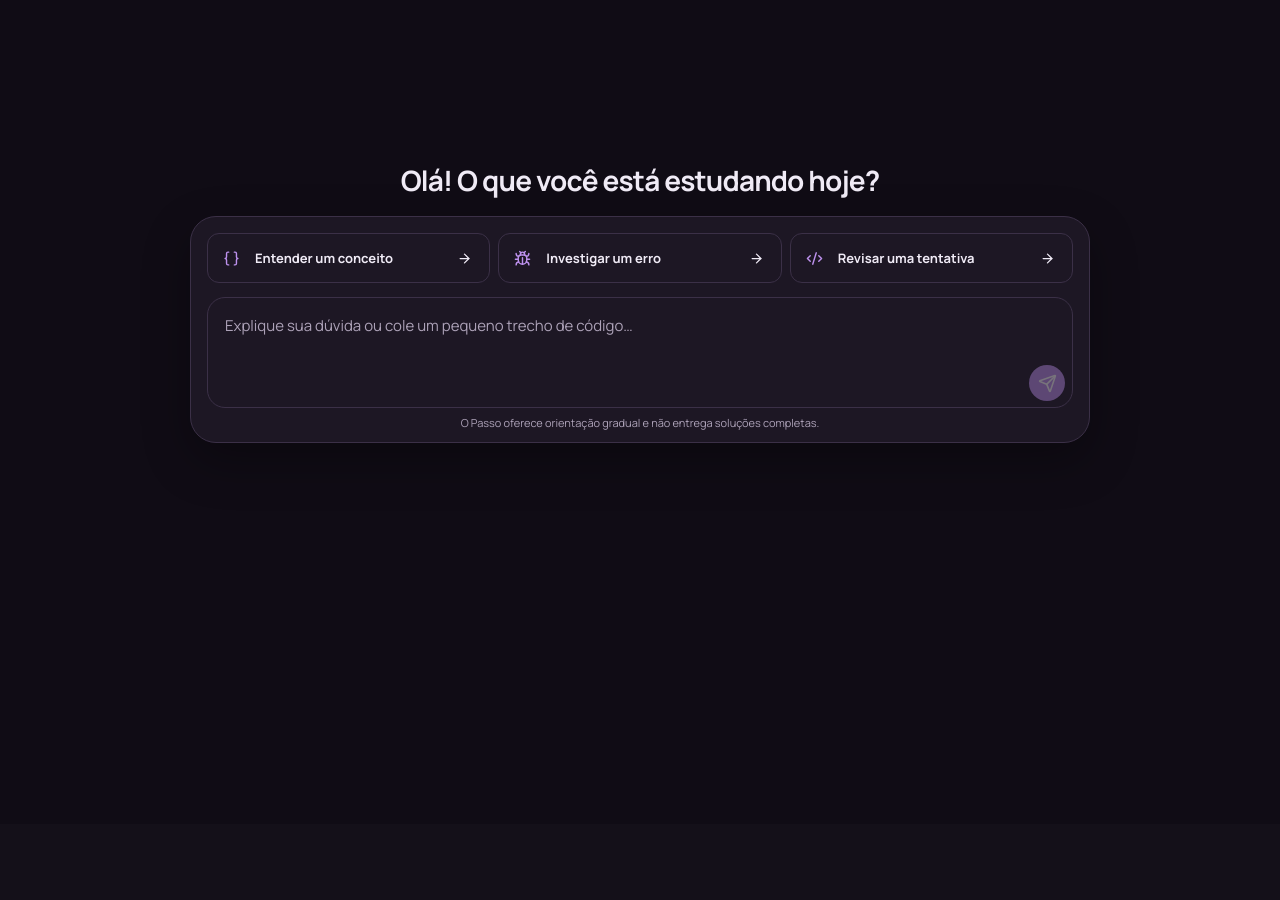
it: ChatPage progressive layout › keeps the draft after the first request fails without retrying
The width and height of the screenshot is (1280, 900).
In the text box named "Sua mensagem para o tutor": (640, 327) [208,298,1072,356], type "Minha dúvida"
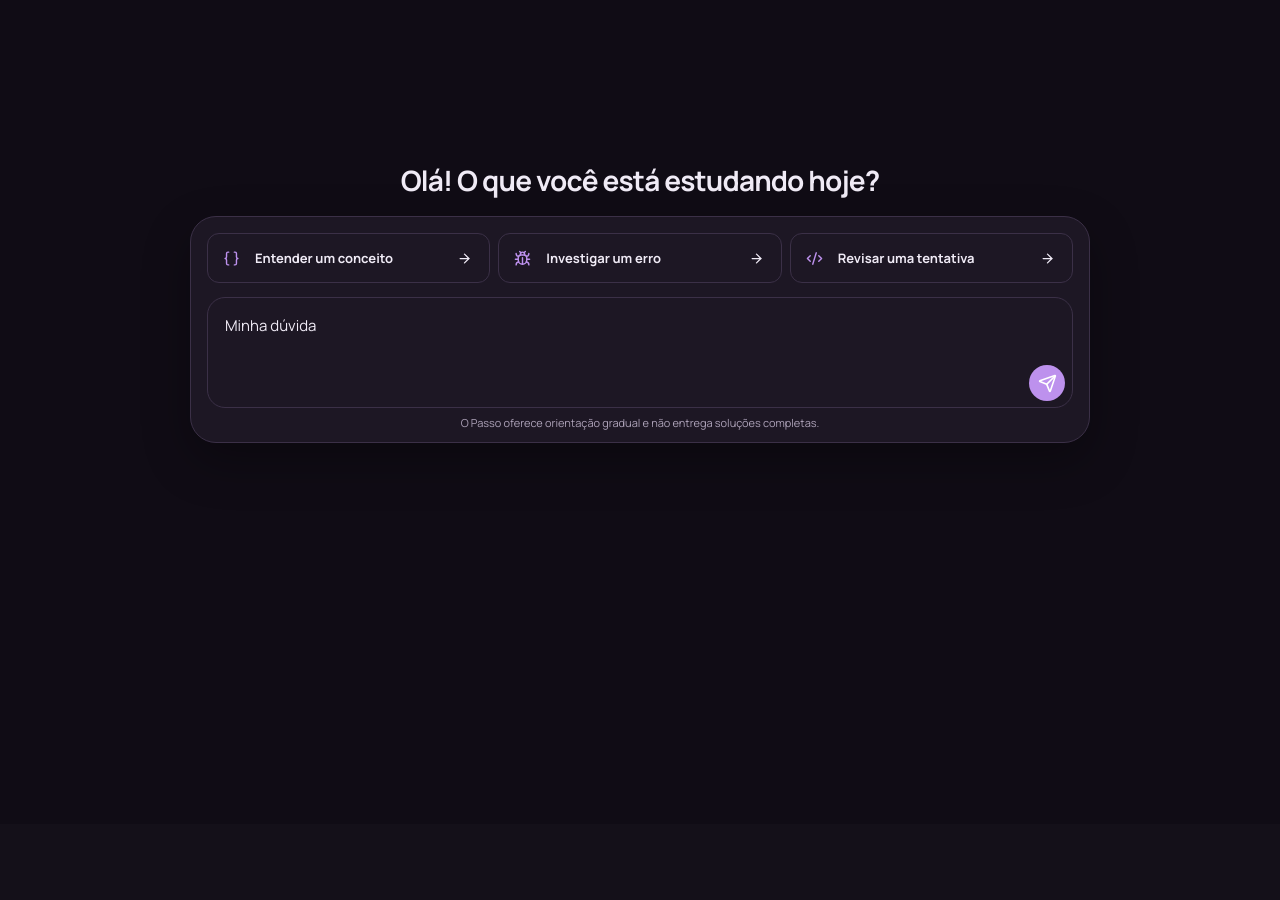
Click the button named "Enviar mensagem": (1047, 383) [1029,365,1065,401]
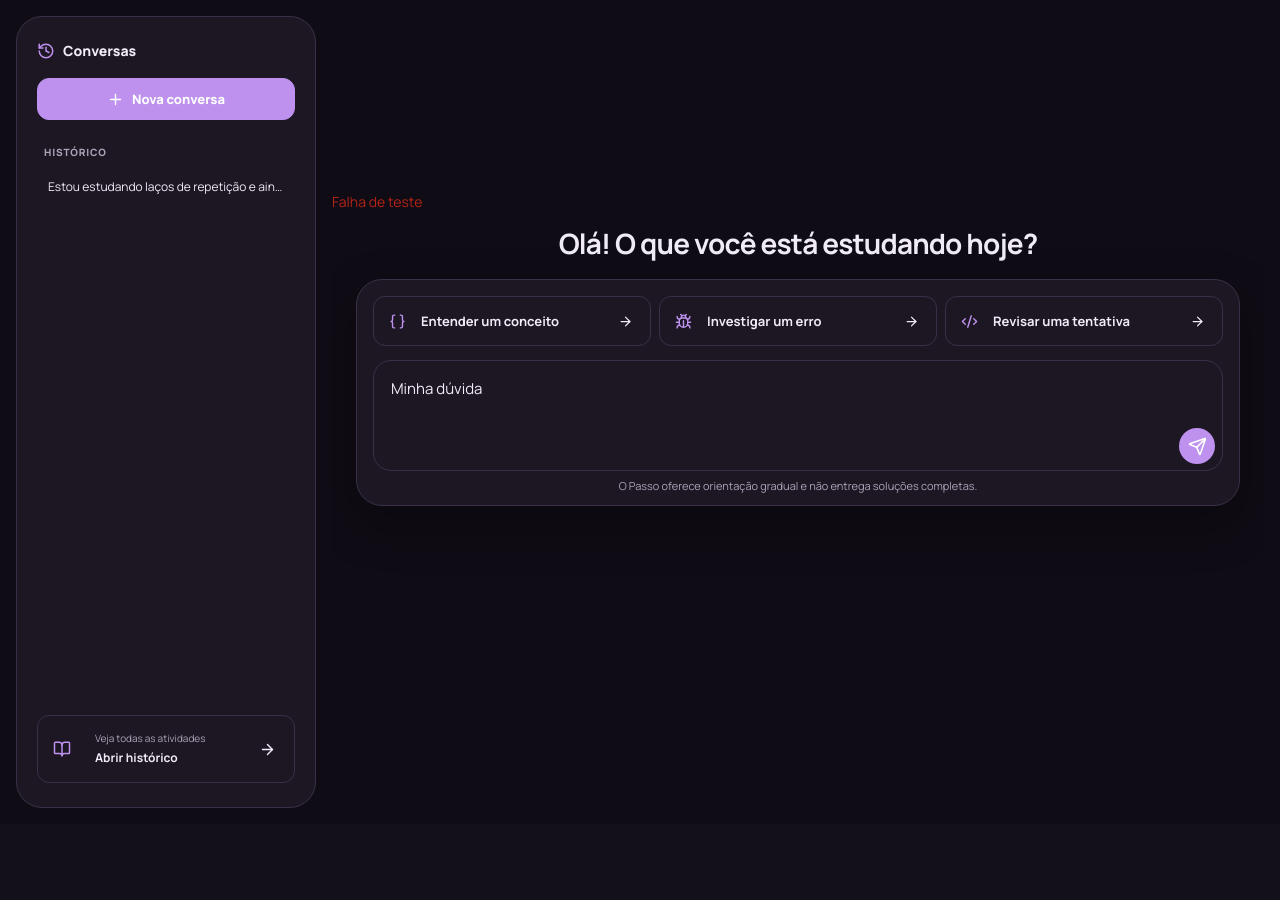
Expected: the text box named "Sua mensagem para o tutor" is enabled, [374,361,1222,419]
Expected: the message reads "Falha de teste", [332,192,422,211]
